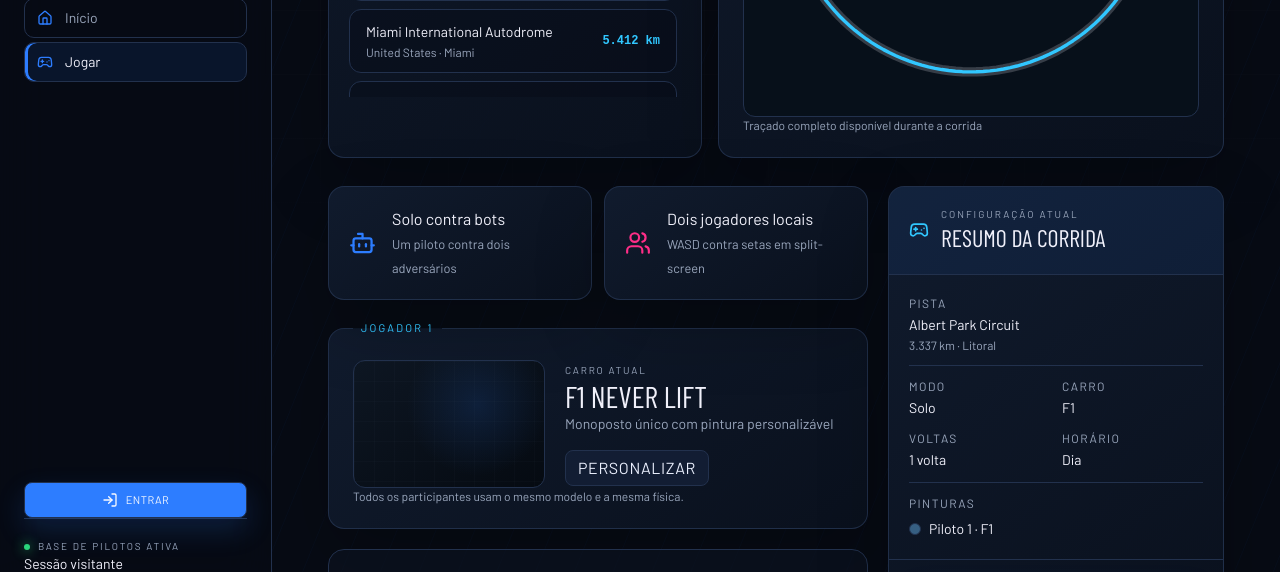
it: Module 2b race setup › switches to two players and exposes the second paint selection
(page scrolled)
Click the button "Dois jogadores locais WASD contra setas em split-screen" at (736, 243), box [604,186,868,300]
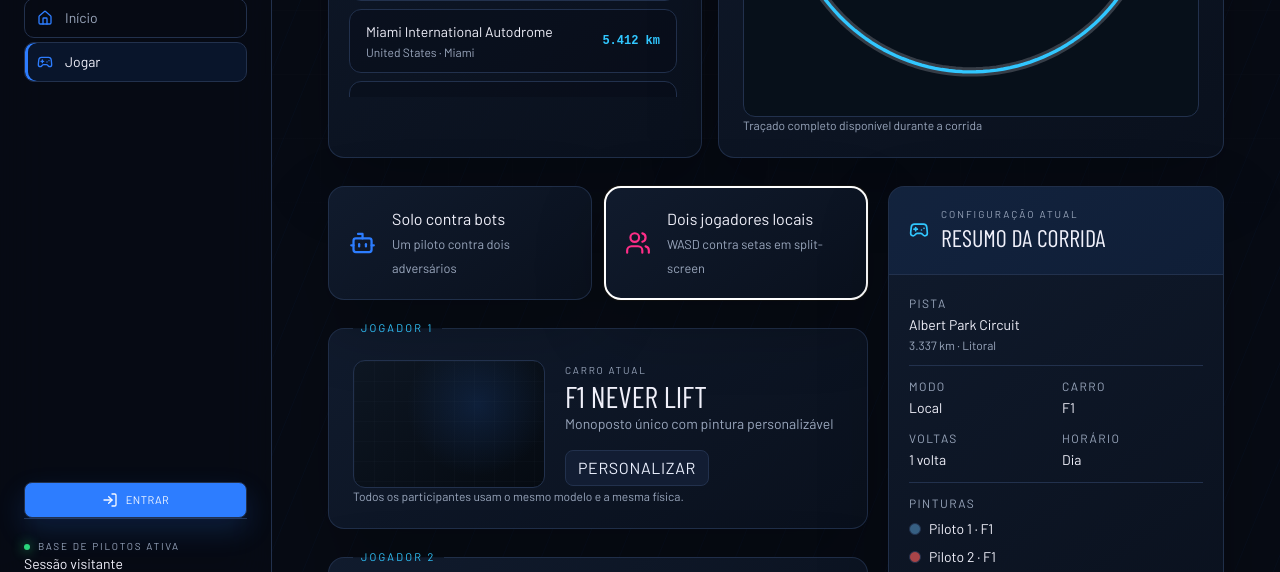
Now the text "Jogador 2" is shown, box [361,550,436,564]
